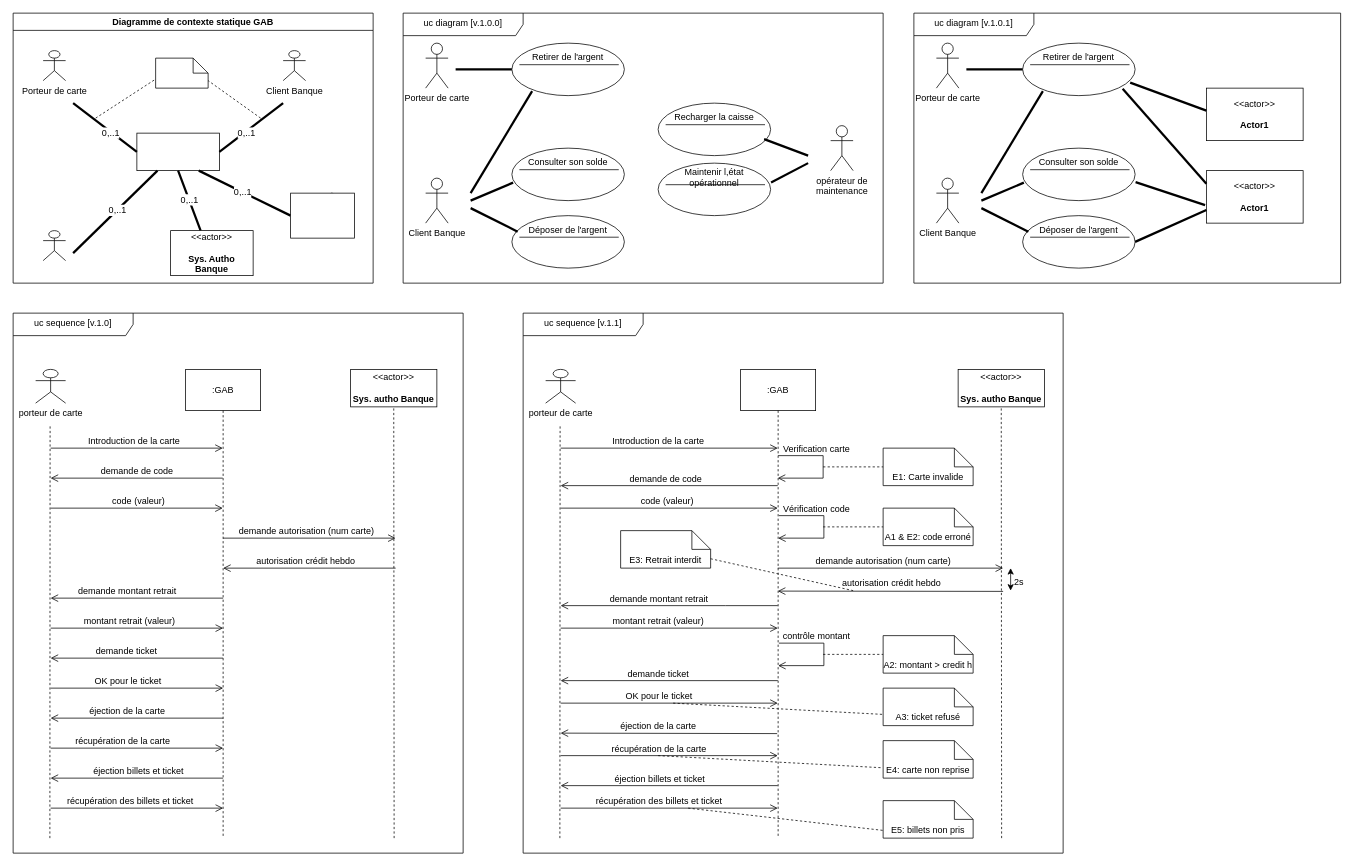
This 1354x866 diagram has some shape labels left out. Here are the shapes that lost their labels. From the top down, the centre of each, then its label:
At (x=181, y=72): "{xor}".
At (x=177, y=151): "GAB".
At (x=322, y=215): "<<actor>> S.I Banque".
At (x=54, y=245): "Actor".
